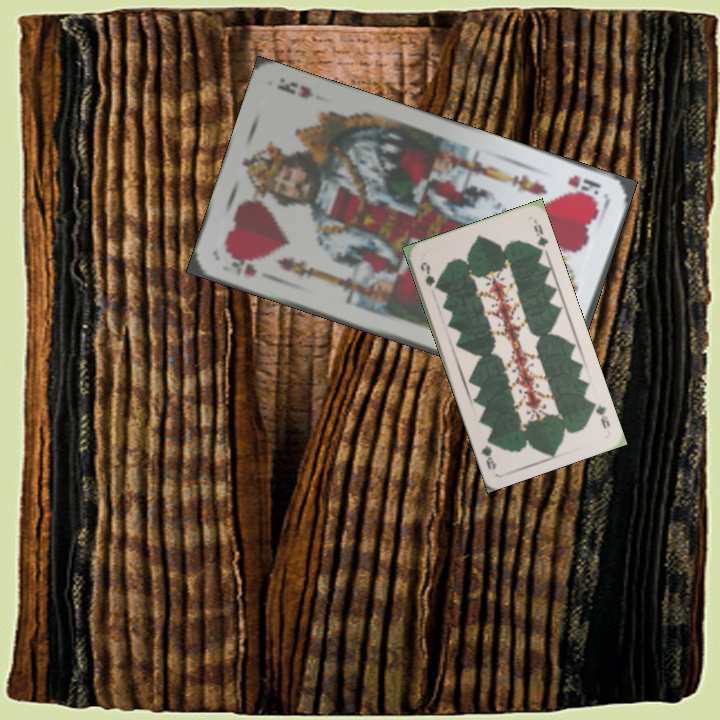G9: (587, 397, 613, 431), (416, 258, 441, 293)
HK: (563, 170, 604, 204), (220, 248, 259, 280)
